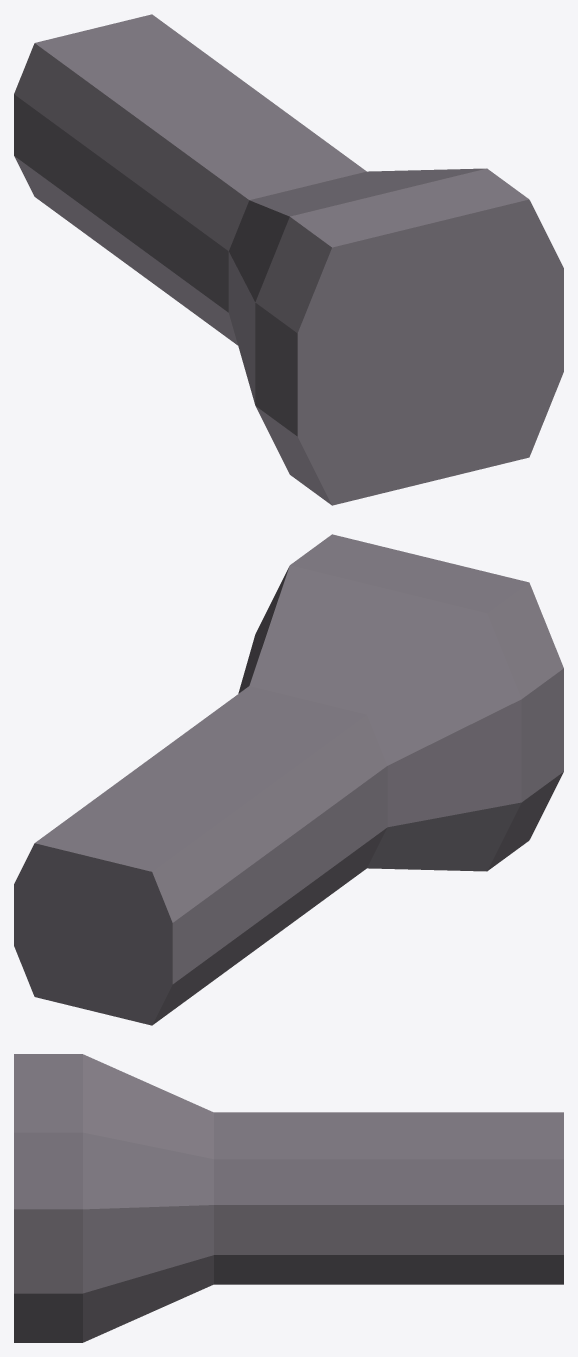
Rendered from Flashlight.fbx.
3 renders of one model, top to bottom at view 1: azimuth 30°, elevation 25°; view 2: azimuth 150°, elevation 25°; view 3: azimuth 270°, elevation 25°, orthographic. The views are drawn at different scales.
Visible parts, largest first — view 1: Flashlight; view 2: Flashlight; view 3: Flashlight.
Boxes of the visible parts, <box> form: Flashlight: <box>14,14,563,505</box>; Flashlight: <box>14,534,563,1025</box>; Flashlight: <box>14,1054,563,1342</box>.
Bounding box in the file's own units: 9.43 × 8.73 × 20.69.
Materials: 1 (1 with a texture image).
